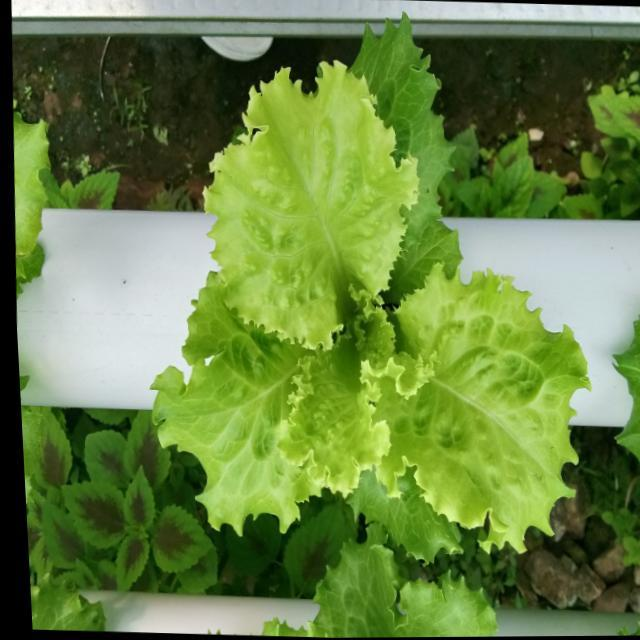Baby: (152, 14, 589, 566)
